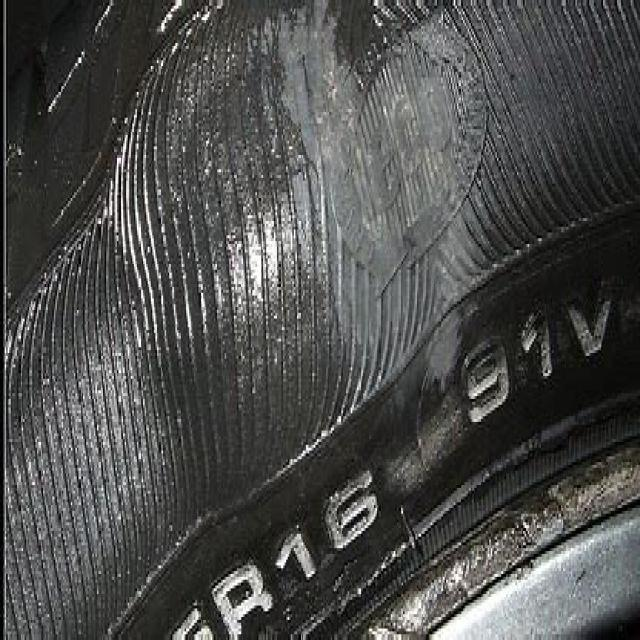Bulge: (108, 0, 402, 543)
